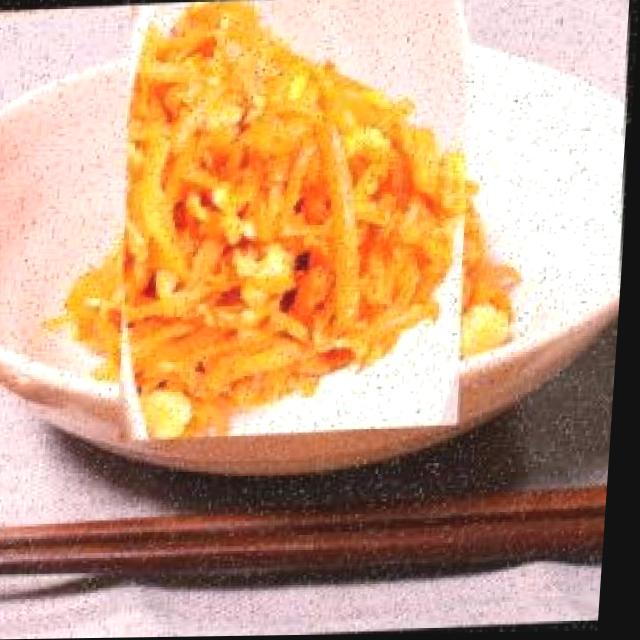carrot_eggs: (86, 14, 510, 419)
